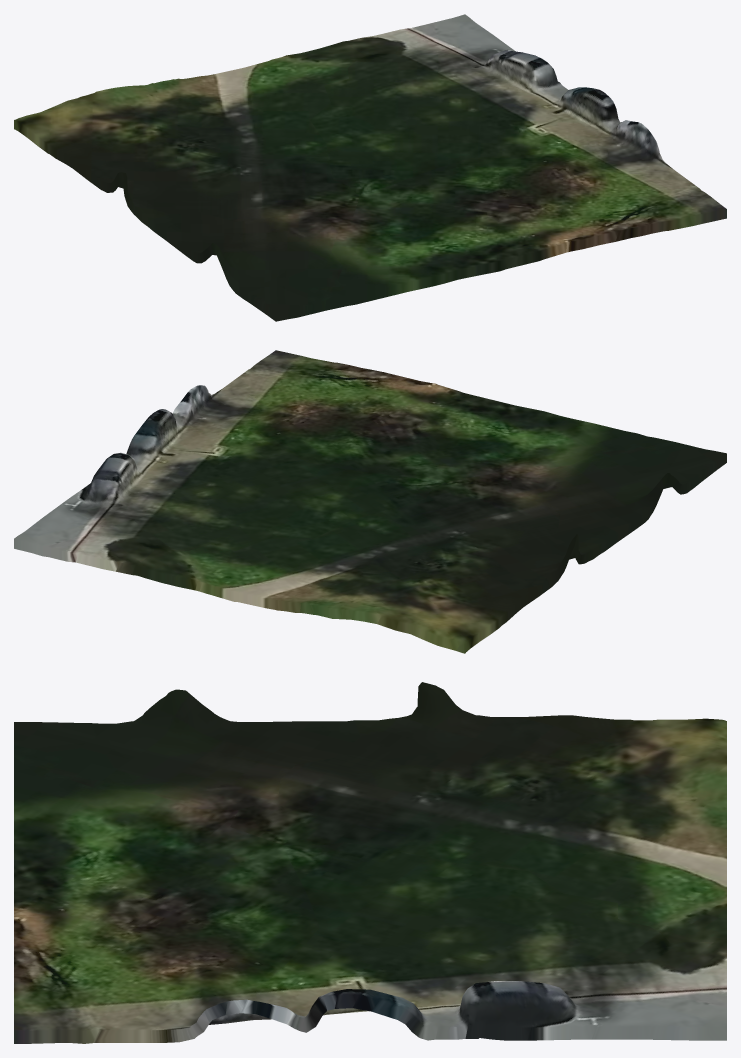
Rendered from z20-167778-405218-h0-yup-uvflip-v3-world.glb.
3 renders of one model, top to bottom at view 1: azimuth 30°, elevation 25°; view 2: azimuth 150°, elevation 25°; view 3: azimuth 270°, elevation 25°, orthographic. The views are drawn at different scales.
Size of the model in its own units: 30.16 by 2.92 by 30.32.
Materials: 1 (1 with a texture image).
